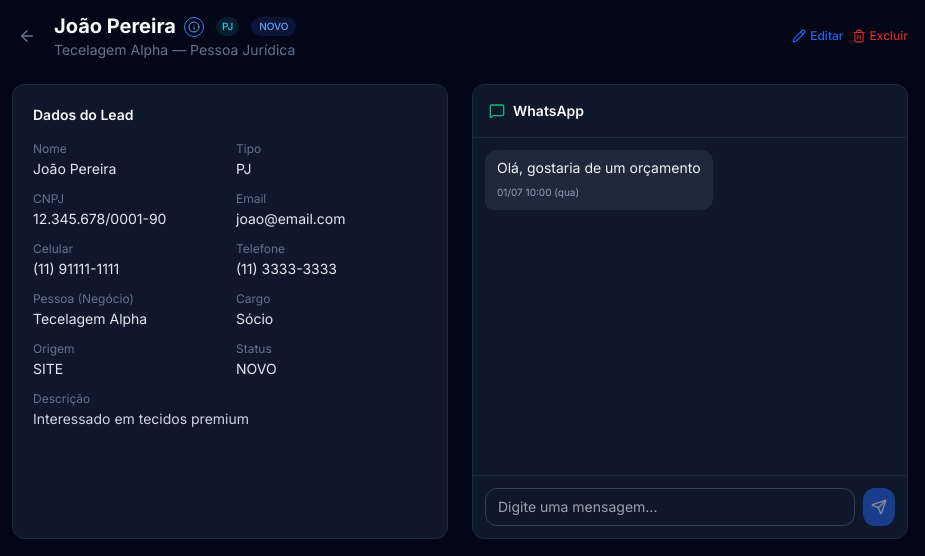
LeadDetailPage › envia uma mensagem pelo WhatsApp
Expected: the text "Olá, gostaria de um orçamento" is shown, left=497, top=158, right=700, bottom=178
Step 1. Type "Olá!" into the field with placeholder "Digite uma mensagem..." → x=670, y=507, box left=485, top=488, right=855, bottom=526
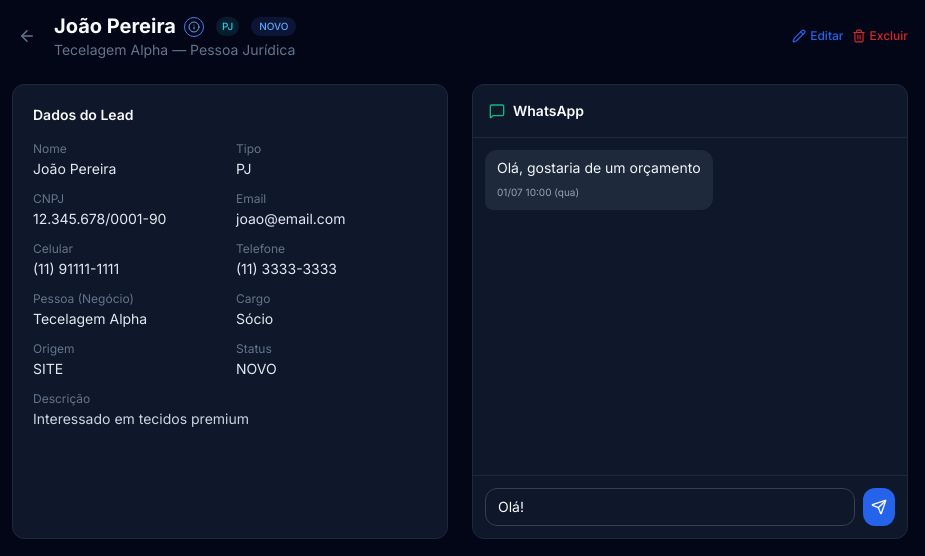
Step 2. Press Enter in the field with placeholder "Digite uma mensagem...", box left=485, top=488, right=855, bottom=526
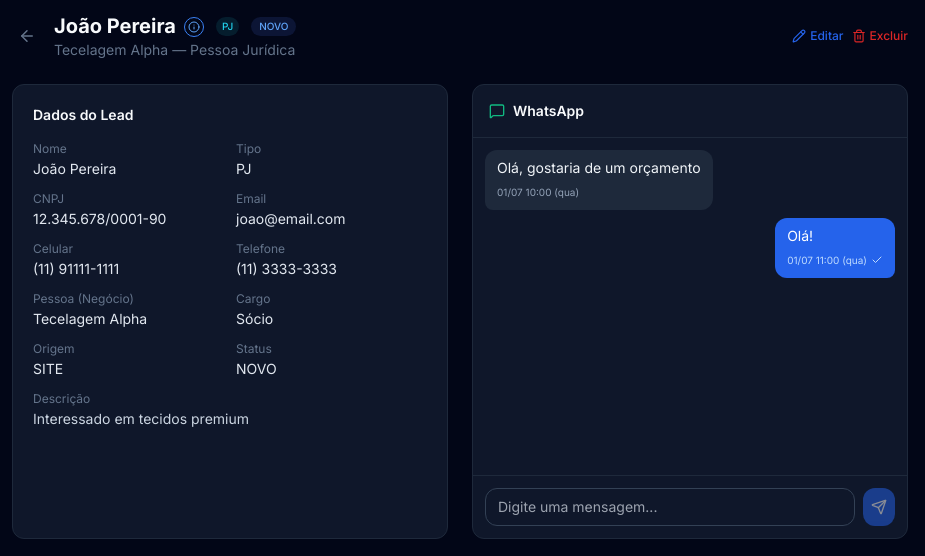
Result: the text "Olá!" is shown at left=787, top=227, right=813, bottom=244
